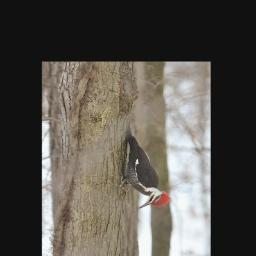Woodpecker: (115, 117, 172, 209)
